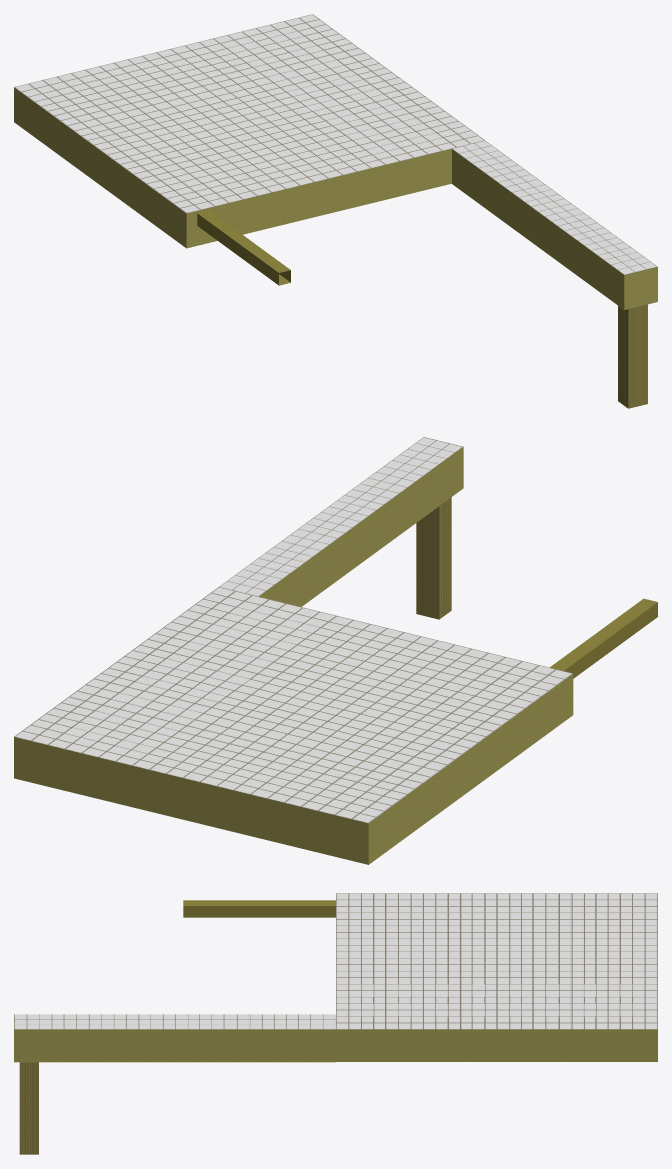
Rendered from Backrooms Packed.gltf.
3 renders of one model, top to bottom at view 1: azimuth 30°, elevation 25°; view 2: azimuth 150°, elevation 25°; view 3: azimuth 270°, elevation 25°, orthographic. The views are drawn at different scales.
Parts seen in each view (by area): view 1: Celing, Big Square_Wall Paper, Celing.001, Short Hallway_Wall Paper, Hallway Celing, Hallway Carpet, Vent All Sizes, Hallway Celing.002; view 2: Celing, Big Square_Wall Paper, Celing.001, Hallway Celing, Short Hallway_Wall Paper, Hallway Carpet, Vent All Sizes, Hallway Celing.002; view 3: Celing, Celing.001, Short Hallway_Wall Paper, Big Square_Wall Paper, Hallway Celing, Vent All Sizes, Hallway Carpet, Hallway Celing.002.
Boxes of the visible parts, <box> form: Celing: <box>15,14,484,212</box>; Big Square_Wall Paper: <box>14,87,451,248</box>; Celing.001: <box>14,14,484,213</box>; Short Hallway_Wall Paper: <box>452,149,657,309</box>; Hallway Celing: <box>452,140,656,274</box>; Hallway Carpet: <box>455,186,647,408</box>; Vent All Sizes: <box>197,210,290,285</box>; Hallway Celing.002: <box>452,141,657,274</box>; Celing: <box>15,587,571,822</box>; Big Square_Wall Paper: <box>14,674,573,864</box>; Celing.001: <box>14,587,572,823</box>; Hallway Celing: <box>220,437,461,596</box>; Short Hallway_Wall Paper: <box>219,437,463,606</box>; Hallway Carpet: <box>303,492,457,619</box>; Vent All Sizes: <box>550,598,657,678</box>; Hallway Celing.002: <box>219,437,462,596</box>; Celing: <box>336,893,657,1029</box>; Celing.001: <box>336,893,657,1029</box>; Short Hallway_Wall Paper: <box>14,1014,335,1061</box>; Big Square_Wall Paper: <box>336,1029,657,1061</box>; Hallway Celing: <box>14,1014,335,1029</box>; Vent All Sizes: <box>183,900,335,917</box>; Hallway Carpet: <box>14,1062,335,1154</box>; Hallway Celing.002: <box>14,1014,335,1029</box>.
Size of the model in its own units: 44.79 by 19.71 by 89.59.
Materials: 8 (3 with a texture image).
